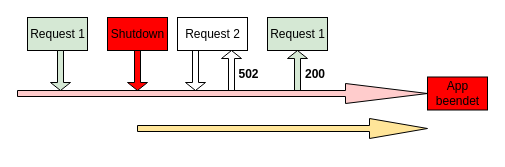
Some shapes in this 505 by 167 pixel diagram are drawn without their labels. The shapes that lost their labels are listed below. From the top down, each one's centre as x and y in pixels, then its label:
(222,93): LIfecycle App
(282,128): Timeout
